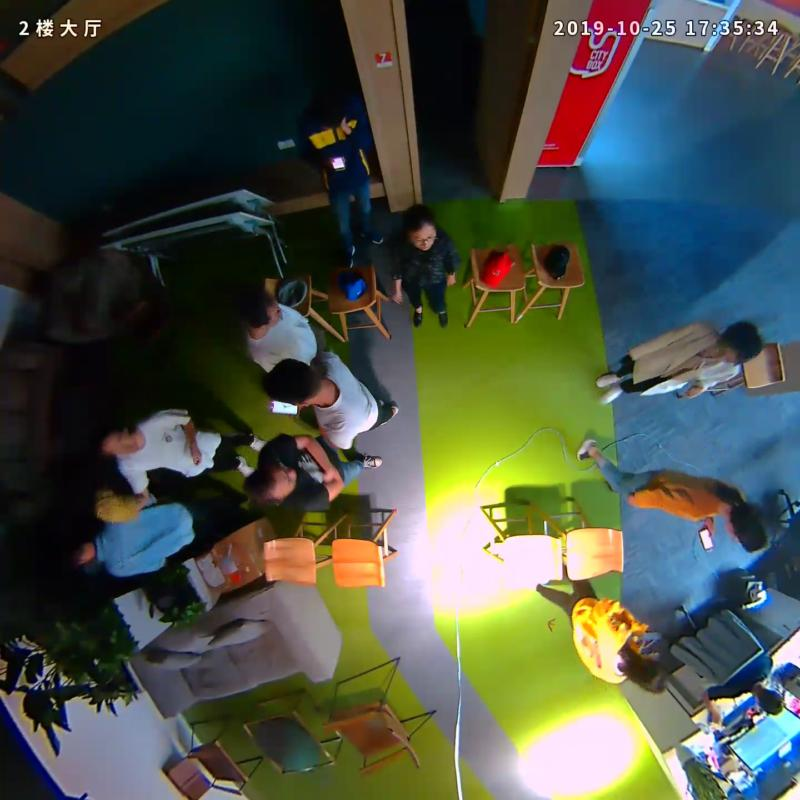head: (262, 356, 321, 405), (724, 501, 770, 554), (710, 320, 763, 365), (620, 649, 668, 695), (243, 463, 297, 501), (236, 287, 281, 330), (93, 420, 141, 457), (403, 206, 438, 251), (313, 87, 344, 130), (57, 535, 96, 568)
